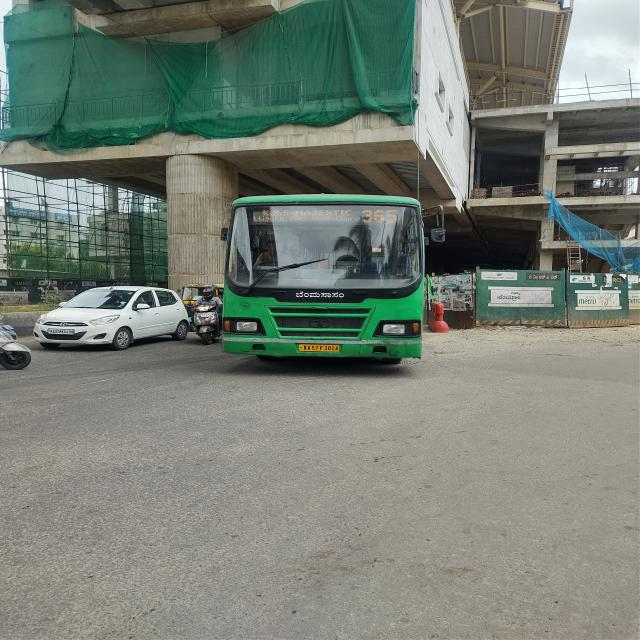bus: (214, 190, 445, 367)
display: (252, 207, 404, 225)
dnumber: (362, 208, 398, 224)
